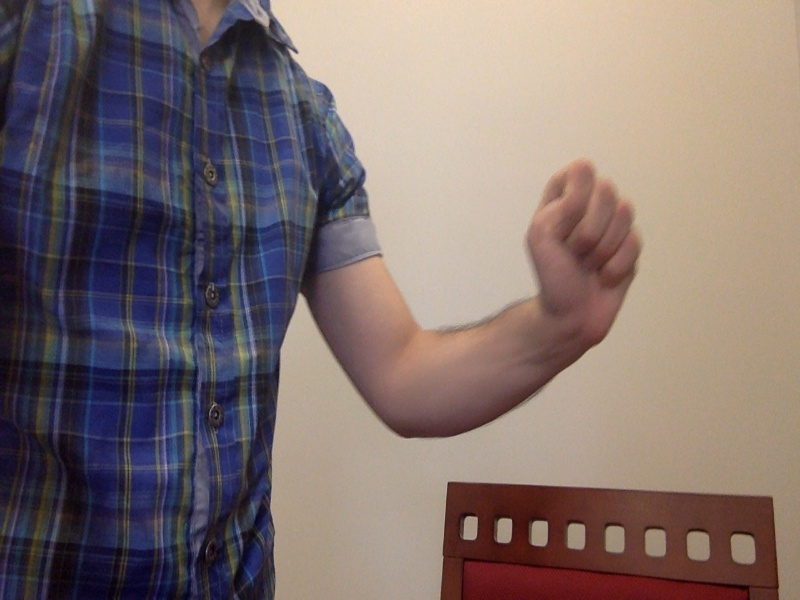0-hand: (524, 164, 644, 332)
